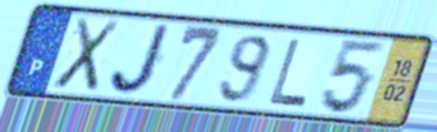5: (319, 36, 391, 116)
7: (168, 22, 225, 104)
9: (216, 32, 275, 104)
J: (108, 22, 175, 98)
L: (267, 37, 311, 110)
X: (48, 16, 124, 95)
